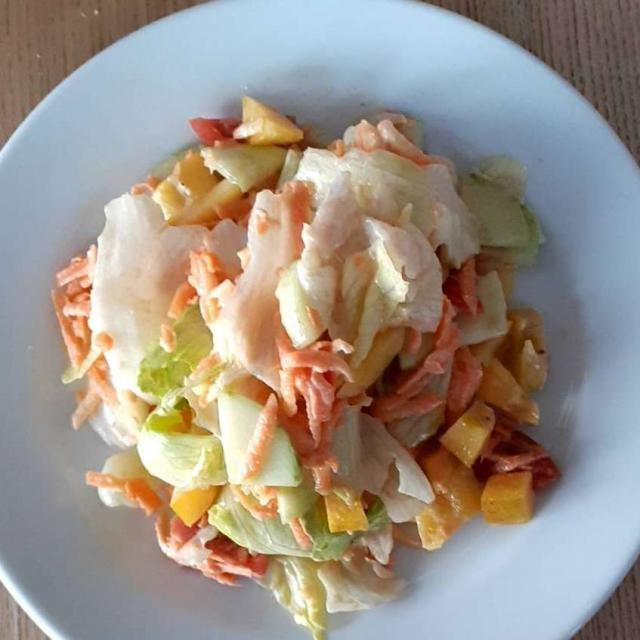carrot: (57, 245, 490, 525)
cucumber: (206, 166, 529, 498)
salad: (92, 150, 524, 610)
